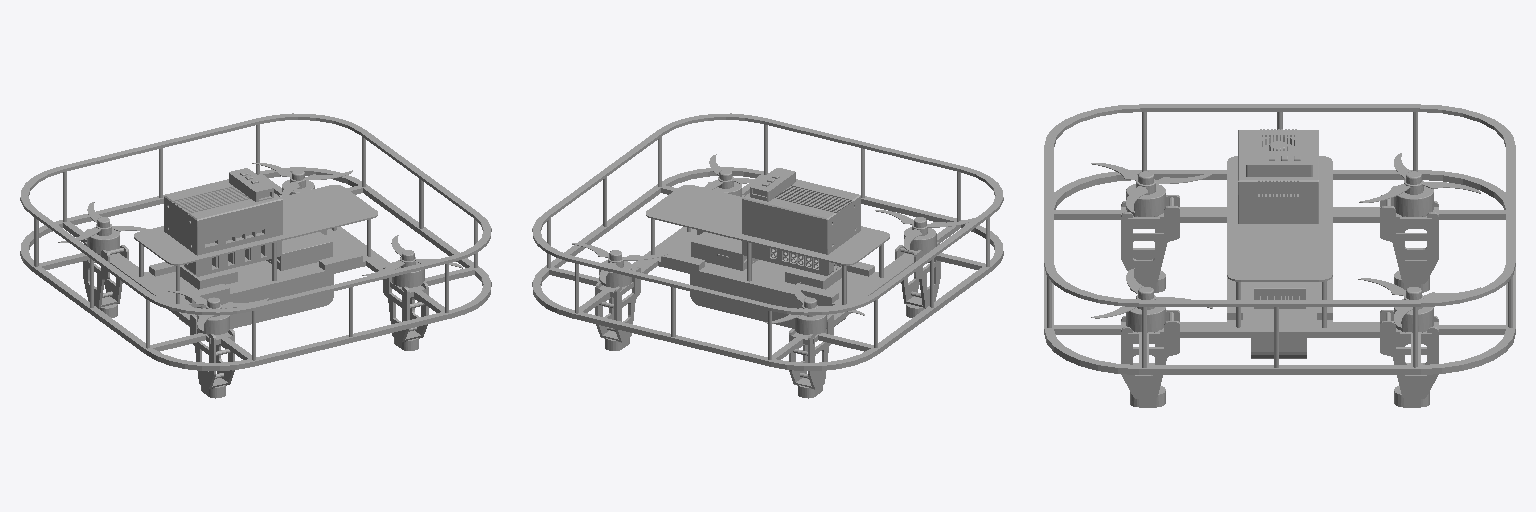
The robot description file, URDF, robot "falco_01":
<?xml version="1.0" encoding="utf-8"?>
<!-- This URDF was automatically created by SolidWorks to URDF Exporter! Originally created by [author] ([email redacted]) 
     Commit Version: 1.5.1-0-g916b5db  Build Version: 1.5.7152.31018
     For more information, please see http://wiki.ros.org/sw_urdf_exporter -->
<robot
  name="falco_01">
  <link
    name="base_link">
    <inertial>
      <origin
        xyz="-0.0079646723778371 -0.000505806570357387 0.00624800334911991"
        rpy="0 0 0" />
      <mass
        value="1.39810098051634" />
      <inertia
        ixx="0.00287251572699635"
        ixy="-2.74213577469404E-07"
        ixz="-8.49343569832154E-08"
        iyy="0.00435014322218822"
        iyz="4.03196388821346E-07"
        izz="0.00695599903318864" />
    </inertial>
    <visual>
      <origin
        xyz="0 0 0"
        rpy="0 0 0" />
      <geometry>
        <mesh
          filename="package://falco_01/meshes/base_link.STL" />
      </geometry>
      <material
        name="">
        <color
          rgba="0.698039215686274 0.698039215686274 0.698039215686274 1" />
      </material>
    </visual>
    <collision>
      <origin
        xyz="0 0 0"
        rpy="0 0 0" />
      <geometry>
        <mesh
          filename="package://falco_01/meshes/base_link.STL" />
      </geometry>
    </collision>
  </link>
  <link
    name="rotor_0">
    <inertial>
      <origin
        xyz="-7.56204057483778E-07 7.83238385607121E-07 0.0122212259151821"
        rpy="0 0 0" />
      <mass
        value="0.0391311532554172" />
      <inertia
        ixx="4.3664919976507E-06"
        ixy="-9.16573656570149E-10"
        ixz="3.03652683866686E-10"
        iyy="4.36808447394079E-06"
        iyz="-3.03718891193341E-10"
        izz="4.95434642457821E-06" />
    </inertial>
    <visual>
      <origin
        xyz="0 0 0"
        rpy="0 0 0" />
      <geometry>
        <mesh
          filename="package://falco_01/meshes/rotor_0.STL" />
      </geometry>
      <material
        name="">
        <color
          rgba="0.698039215686274 0.698039215686274 0.698039215686274 1" />
      </material>
    </visual>
    <collision>
      <origin
        xyz="0 0 0"
        rpy="0 0 0" />
      <geometry>
        <mesh
          filename="package://falco_01/meshes/rotor_0.STL" />
      </geometry>
    </collision>
  </link>
  <joint
    name="rotor_0_joint"
    type="revolute">
    <origin
      xyz="0.102 -0.1 0"
      rpy="0 0 0" />
    <parent
      link="base_link" />
    <child
      link="rotor_0" />
    <axis
      xyz="0 0 1" />
    <limit
      lower="-1e+16"
      upper="1e+16"
      effort="0"
      velocity="0" />
  </joint>
  <link
    name="rotor_1">
    <inertial>
      <origin
        xyz="-7.56204057483778E-07 7.83238385620999E-07 0.0122212259151821"
        rpy="0 0 0" />
      <mass
        value="0.0391311532554171" />
      <inertia
        ixx="4.3664919976507E-06"
        ixy="-9.16573656561483E-10"
        ixz="3.03652683866238E-10"
        iyy="4.36808447394076E-06"
        iyz="-3.03718891195656E-10"
        izz="4.95434642457819E-06" />
    </inertial>
    <visual>
      <origin
        xyz="0 0 0"
        rpy="0 0 0" />
      <geometry>
        <mesh
          filename="package://falco_01/meshes/rotor_1.STL" />
      </geometry>
      <material
        name="">
        <color
          rgba="0.698039215686274 0.698039215686274 0.698039215686274 1" />
      </material>
    </visual>
    <collision>
      <origin
        xyz="0 0 0"
        rpy="0 0 0" />
      <geometry>
        <mesh
          filename="package://falco_01/meshes/rotor_1.STL" />
      </geometry>
    </collision>
  </link>
  <joint
    name="rotor_1_joint"
    type="revolute">
    <origin
      xyz="-0.102 0.1 0"
      rpy="0 0 0" />
    <parent
      link="base_link" />
    <child
      link="rotor_1" />
    <axis
      xyz="0 0 1" />
    <limit
      lower="-1e+16"
      upper="1e+16"
      effort="0"
      velocity="0" />
  </joint>
  <link
    name="rotor_2">
    <inertial>
      <origin
        xyz="-7.391944131796E-07 -1.11177206144064E-06 0.0122230869830944"
        rpy="0 0 0" />
      <mass
        value="0.0391388431003464" />
      <inertia
        ixx="4.37377975289487E-06"
        ixy="-9.13292391054662E-10"
        ixz="3.01307684828939E-10"
        iyy="4.37304400615737E-06"
        iyz="4.43259991923215E-10"
        izz="4.96517414135909E-06" />
    </inertial>
    <visual>
      <origin
        xyz="0 0 0"
        rpy="0 0 0" />
      <geometry>
        <mesh
          filename="package://falco_01/meshes/rotor_2.STL" />
      </geometry>
      <material
        name="">
        <color
          rgba="0.698039215686274 0.698039215686274 0.698039215686274 1" />
      </material>
    </visual>
    <collision>
      <origin
        xyz="0 0 0"
        rpy="0 0 0" />
      <geometry>
        <mesh
          filename="package://falco_01/meshes/rotor_2.STL" />
      </geometry>
    </collision>
  </link>
  <joint
    name="rotor_2_joint"
    type="revolute">
    <origin
      xyz="0.102 0.1 0"
      rpy="0 0 0" />
    <parent
      link="base_link" />
    <child
      link="rotor_2" />
    <axis
      xyz="0 0 1" />
    <limit
      lower="-1e+16"
      upper="1e+16"
      effort="0"
      velocity="0" />
  </joint>
  <link
    name="rotor_3">
    <inertial>
      <origin
        xyz="-7.50284720352212E-07 -1.0979880816081E-06 0.0122230860567111"
        rpy="0 0 0" />
      <mass
        value="0.0391388392694096" />
      <inertia
        ixx="4.37378460383042E-06"
        ixy="-9.10390729192987E-10"
        ixz="3.05581671692745E-10"
        iyy="4.37303473988729E-06"
        iyz="4.37924580099471E-10"
        izz="4.96517043198933E-06" />
    </inertial>
    <visual>
      <origin
        xyz="0 0 0"
        rpy="0 0 0" />
      <geometry>
        <mesh
          filename="package://falco_01/meshes/rotor_3.STL" />
      </geometry>
      <material
        name="">
        <color
          rgba="0.698039215686274 0.698039215686274 0.698039215686274 1" />
      </material>
    </visual>
    <collision>
      <origin
        xyz="0 0 0"
        rpy="0 0 0" />
      <geometry>
        <mesh
          filename="package://falco_01/meshes/rotor_3.STL" />
      </geometry>
    </collision>
  </link>
  <joint
    name="rotor_3_joint"
    type="revolute">
    <origin
      xyz="-0.102 -0.1 0"
      rpy="0 0 0" />
    <parent
      link="base_link" />
    <child
      link="rotor_3" />
    <axis
      xyz="0 0 1" />
    <limit
      lower="-1e+16"
      upper="1e+16"
      effort="0"
      velocity="0" />
  </joint>

</robot>

--- Render facts (derived) ---
3 views of the same robot in one strip: view 1: azimuth 30°, elevation 25°; view 2: azimuth 150°, elevation 25°; view 3: azimuth 270°, elevation 25° (orthographic).
Model falco_01 with 5 links and 4 joints (4 revolute), rooted at base_link, posed every joint at zero.
Links seen in each view (by area): view 1: base_link, rotor_1, rotor_3, rotor_0, rotor_2; view 2: base_link, rotor_3, rotor_2, rotor_1, rotor_0; view 3: base_link, rotor_1, rotor_3, rotor_2, rotor_0.
Link boxes in pixels (x1=…): base_link: x1=20, y1=113, x2=491, y2=398; rotor_1: x1=58, y1=202, x2=148, y2=255; rotor_3: x1=168, y1=290, x2=268, y2=335; rotor_0: x1=362, y1=235, x2=462, y2=287; rotor_2: x1=252, y1=163, x2=352, y2=196; base_link: x1=532, y1=113, x2=1003, y2=398; rotor_3: x1=875, y1=210, x2=974, y2=255; rotor_2: x1=572, y1=243, x2=670, y2=287; rotor_1: x1=765, y1=282, x2=864, y2=335; rotor_0: x1=703, y1=154, x2=758, y2=196; base_link: x1=1044, y1=104, x2=1515, y2=407; rotor_1: x1=1359, y1=153, x2=1480, y2=216; rotor_3: x1=1091, y1=163, x2=1212, y2=216; rotor_2: x1=1358, y1=278, x2=1480, y2=332; rotor_0: x1=1091, y1=268, x2=1212, y2=332.
Size in the robot's own frame: 0.352 by 0.352 by 0.1525 metres.
Meshes: 5 distinct files referenced, 5 mesh visuals loaded (5 binary STL).
